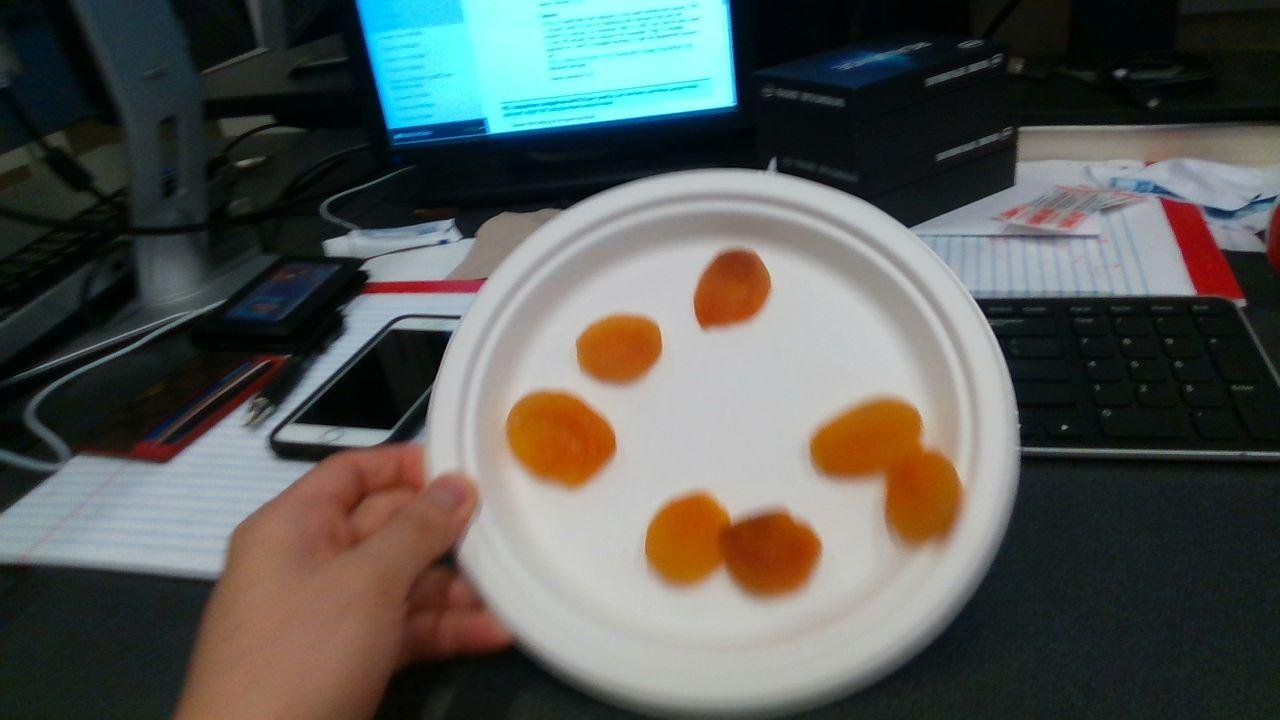apricot: (507, 392, 617, 485), (812, 403, 922, 475), (723, 514, 820, 594), (646, 497, 731, 583), (887, 454, 958, 543), (695, 254, 771, 326), (578, 317, 661, 382)
plate: (426, 170, 1018, 712)
